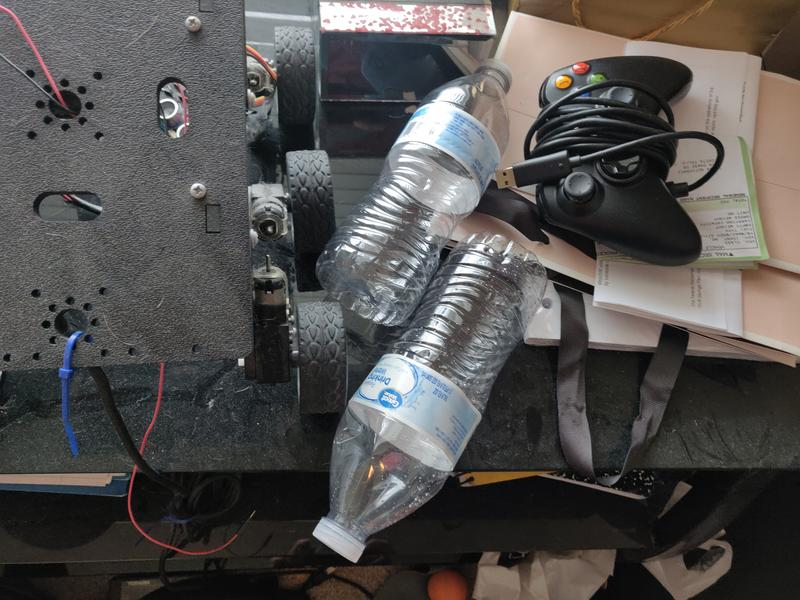bottle: (311, 234, 546, 563), (316, 59, 514, 327)
